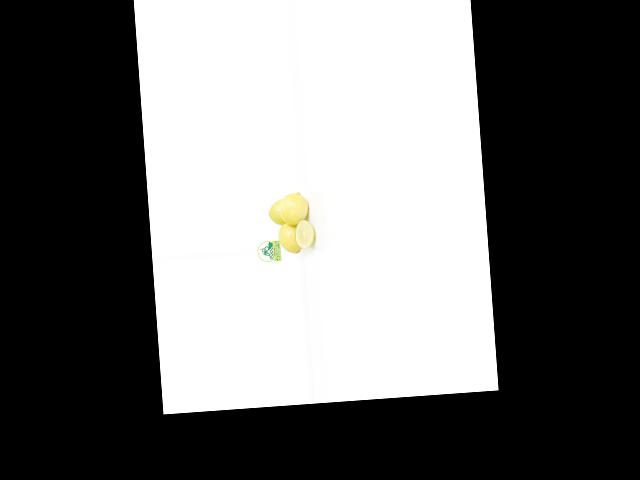lemon: (278, 188, 311, 225)
